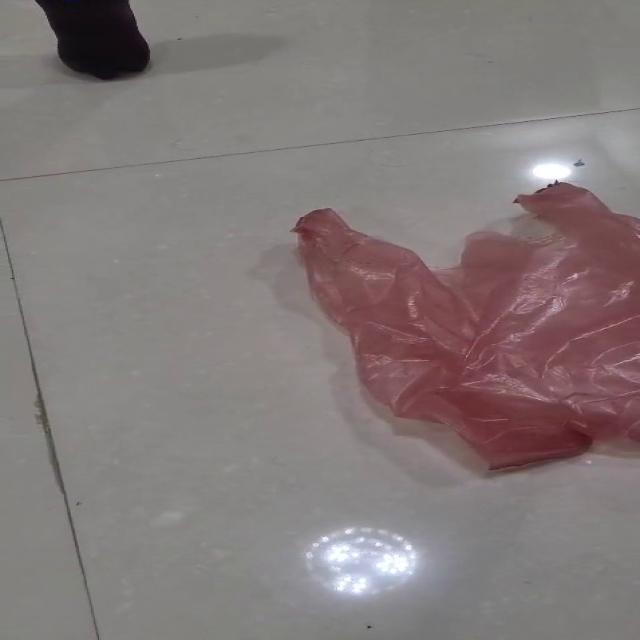plastic: (288, 180, 639, 471)
